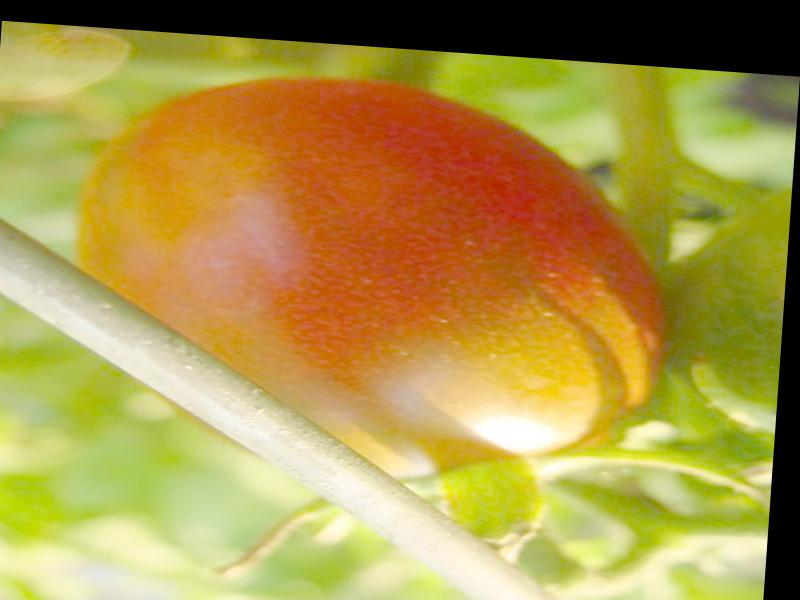Tomato: (71, 61, 673, 493)
